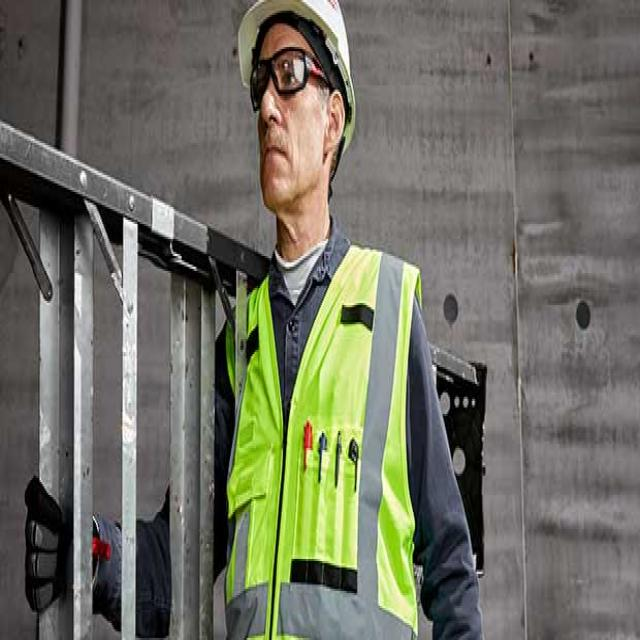goggles: (233, 48, 345, 104)
helmet: (233, 0, 389, 85)
vest: (203, 209, 427, 640)
